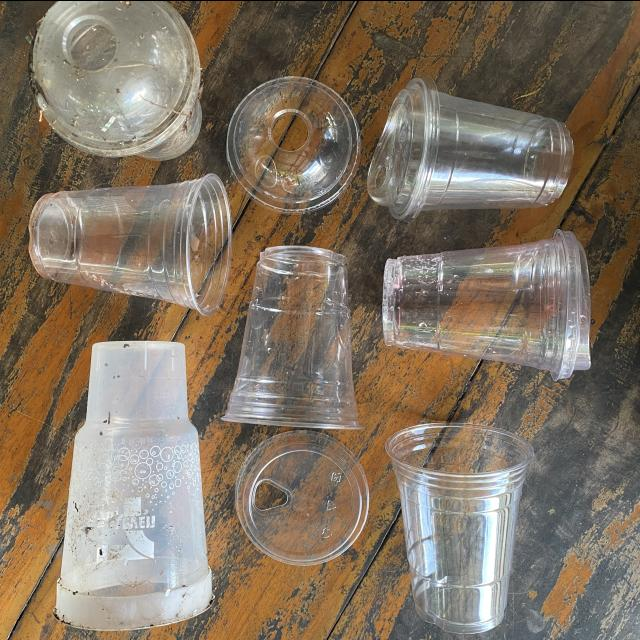plastik: (55, 340, 212, 629), (385, 422, 534, 632), (383, 229, 591, 379), (368, 77, 573, 220), (29, 173, 231, 314), (29, 0, 201, 159), (222, 245, 362, 427), (235, 429, 370, 564), (226, 76, 360, 212)
